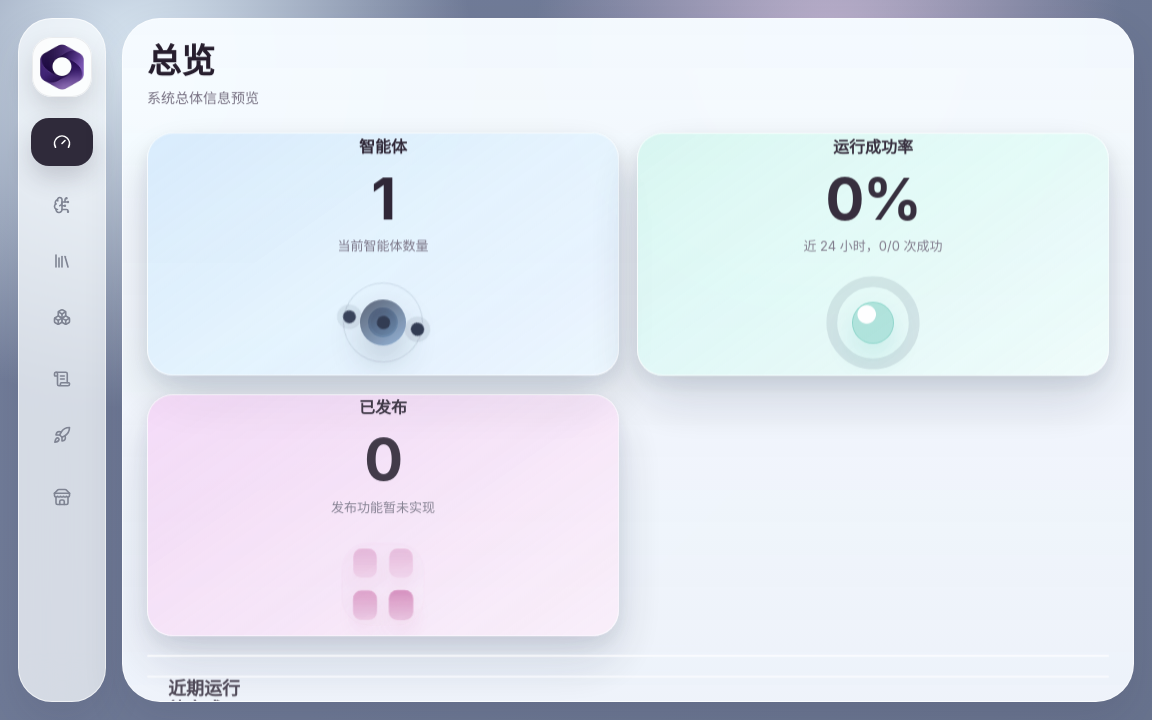
Test: App › 从智能体卡片进入画布后可以通过右上角按钮返回智能体卡片页
Step 1. Click the button named "智能体" → (62, 205), box [31,181,93,229]
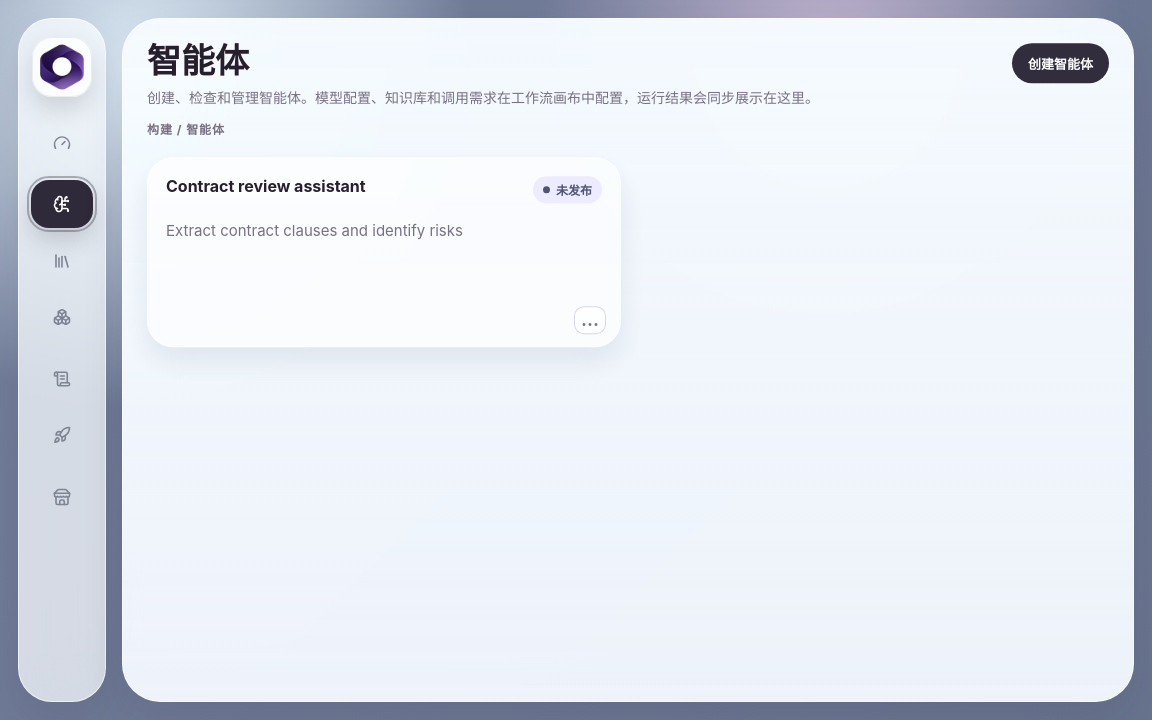
Step 2. Click the element "Contract review assistant" → (384, 252), box [147,158,621,348]
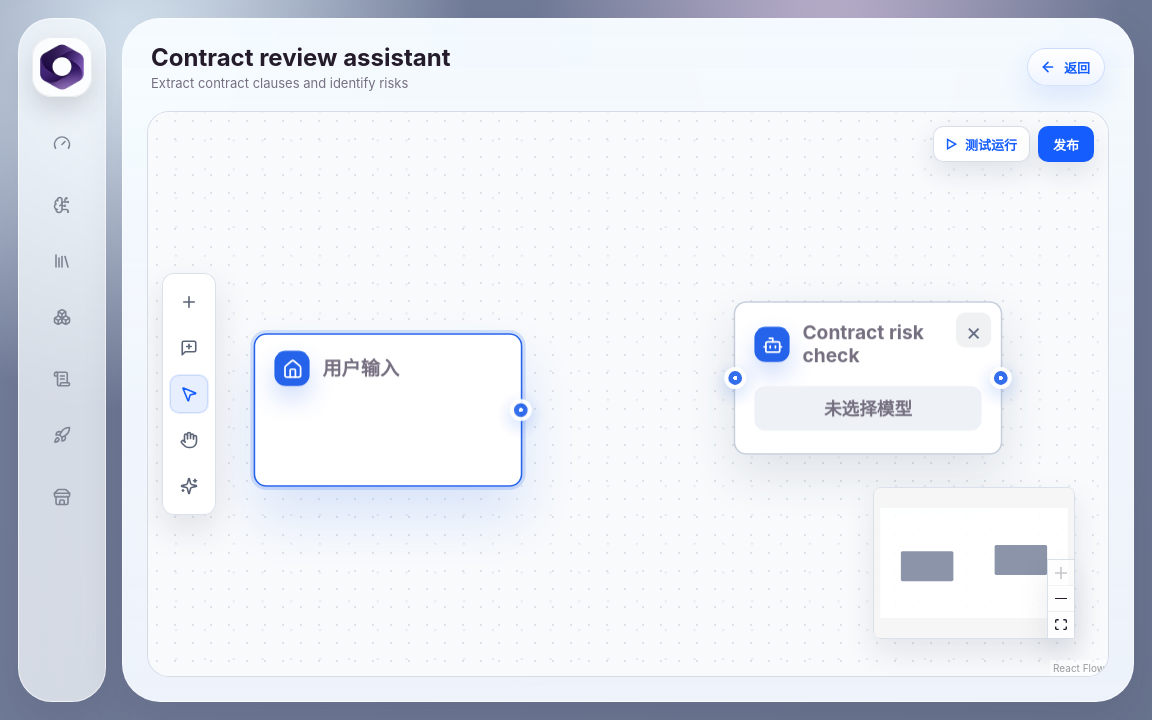
Now the heading "Contract review assistant" is shown, box [151,45,450,71]
Step 3. Click the button with aria-label "返回智能体列表" → (1066, 67), box [1027,48,1105,86]
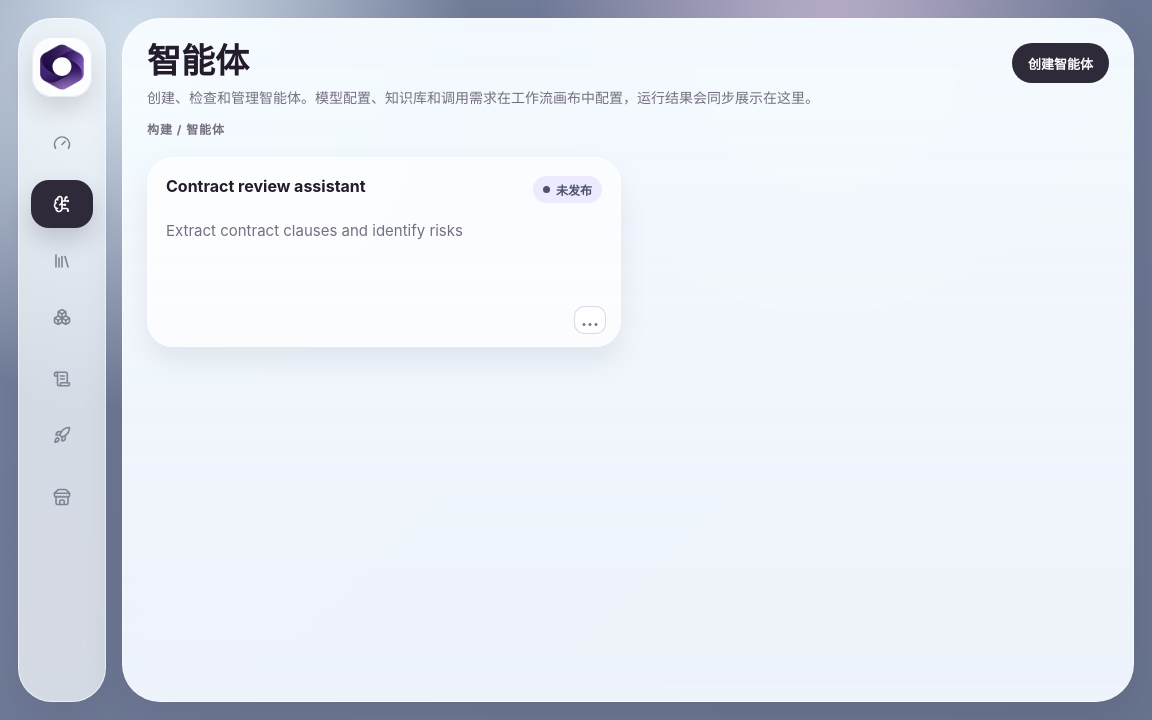
Now the element "Contract review assistant" is shown, box [147,157,621,347]
